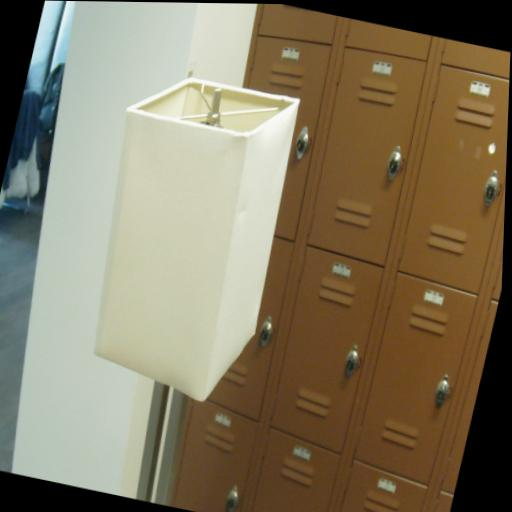lamp: (40, 62, 310, 512)
